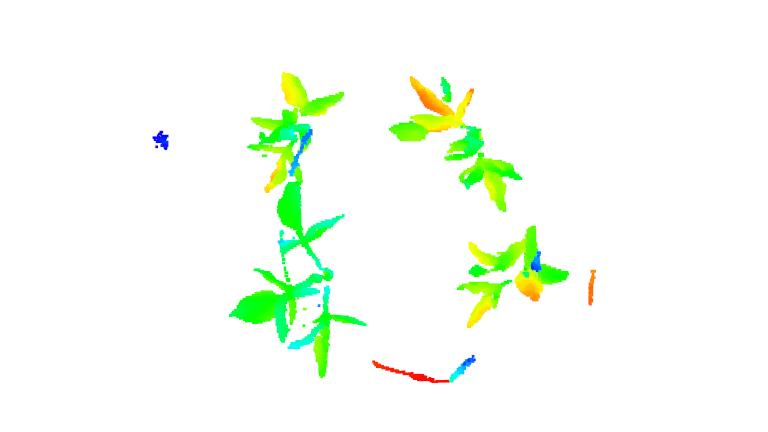mungbean: (232, 180, 371, 379), (392, 73, 522, 213), (245, 64, 347, 192), (457, 222, 572, 329)
